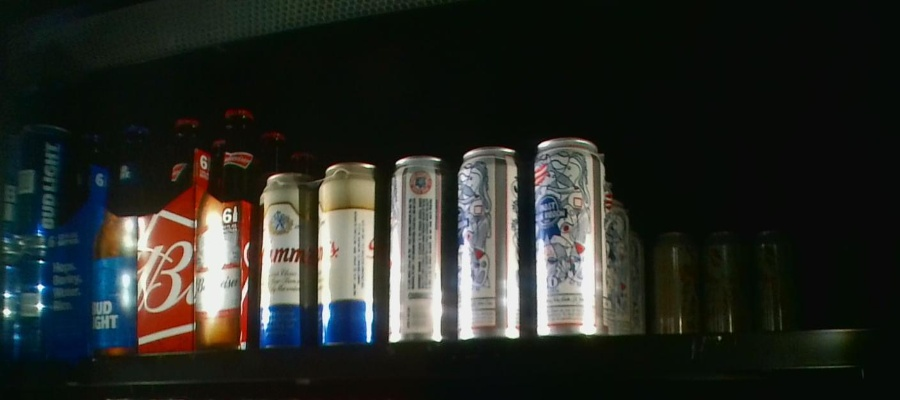bottle: (387, 135, 630, 337), (3, 125, 134, 350), (139, 103, 252, 345), (258, 163, 384, 344), (704, 230, 798, 329), (642, 223, 694, 337)
